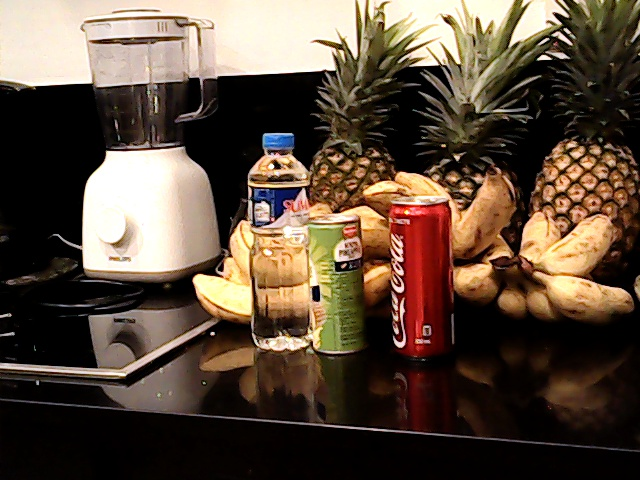Cola: (379, 184, 465, 368)
Pine Juice: (306, 208, 379, 363)
Summit Water: (228, 125, 312, 362)
